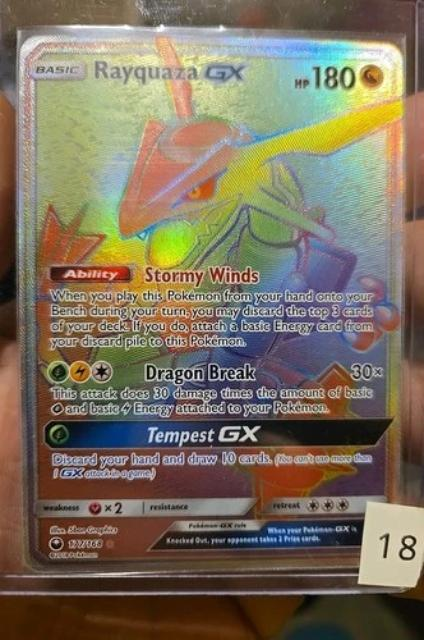Card: (12, 32, 410, 578)
Name: (86, 55, 251, 87)
